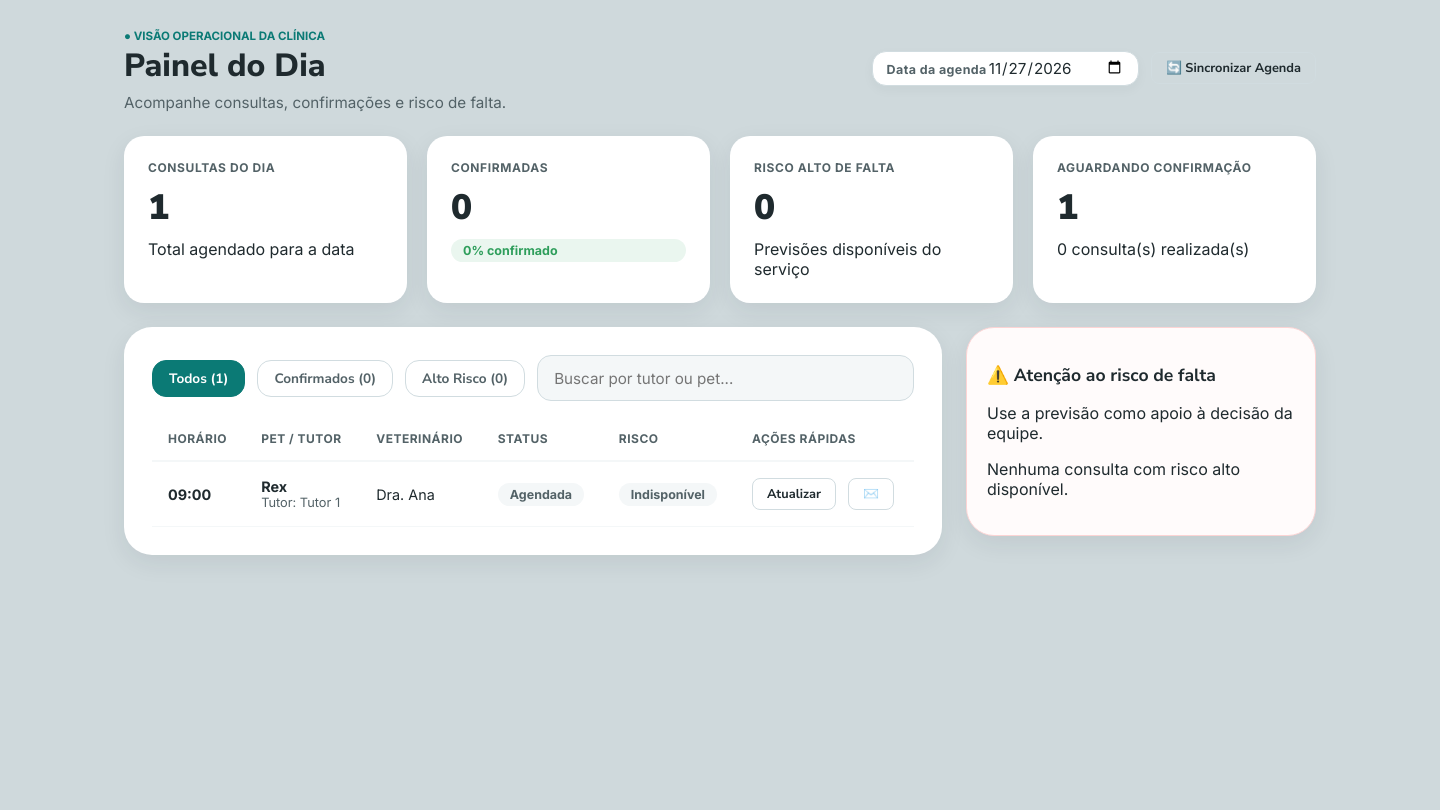
mudanca de status rejeitada permanece no modal sem alterar consulta localmente
Step 1. Click the button "Atualizar" → (794, 494), box [752,478,836,510]
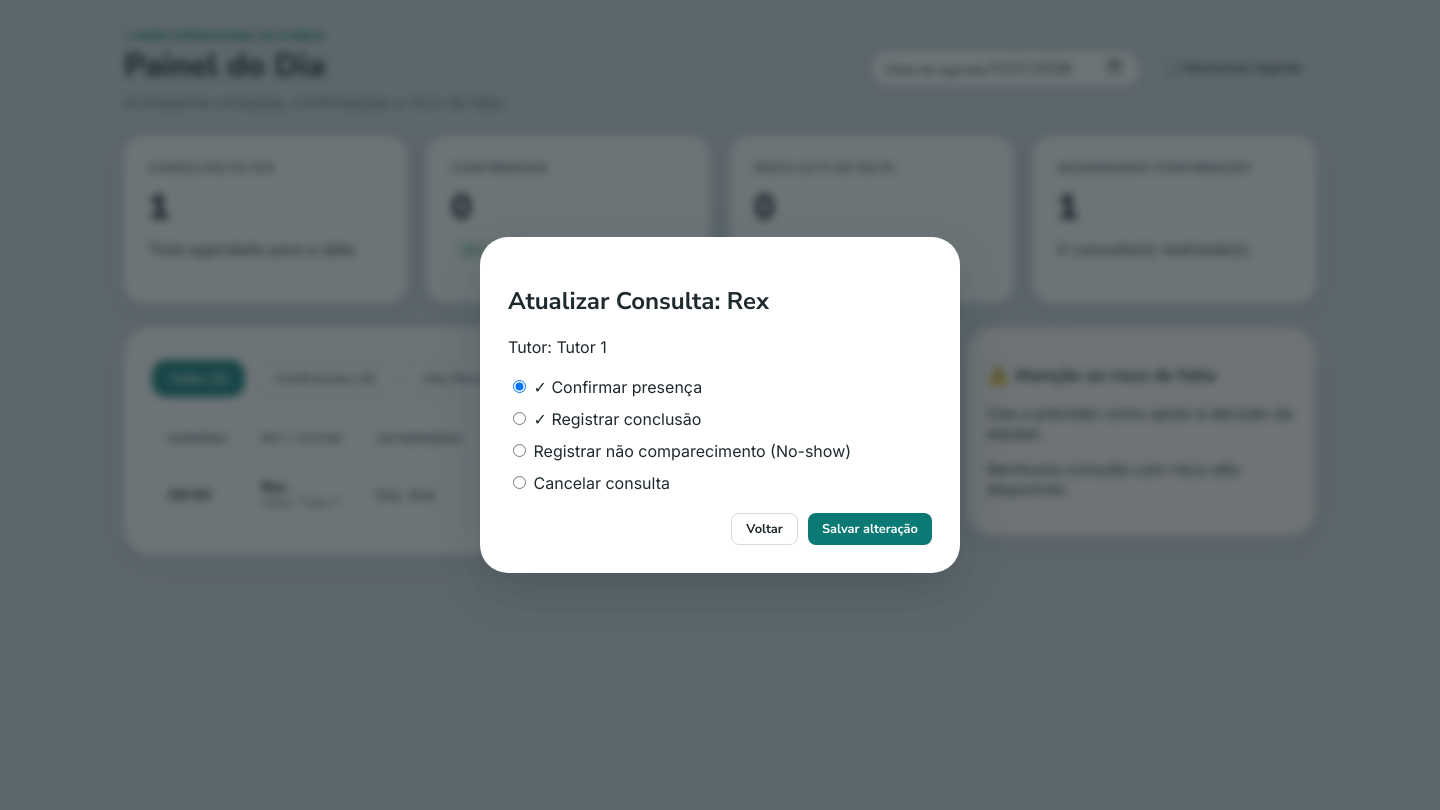
Step 2. Click the radio button labelled "Cancelar consulta" → (520, 482), box [513,476,526,489]
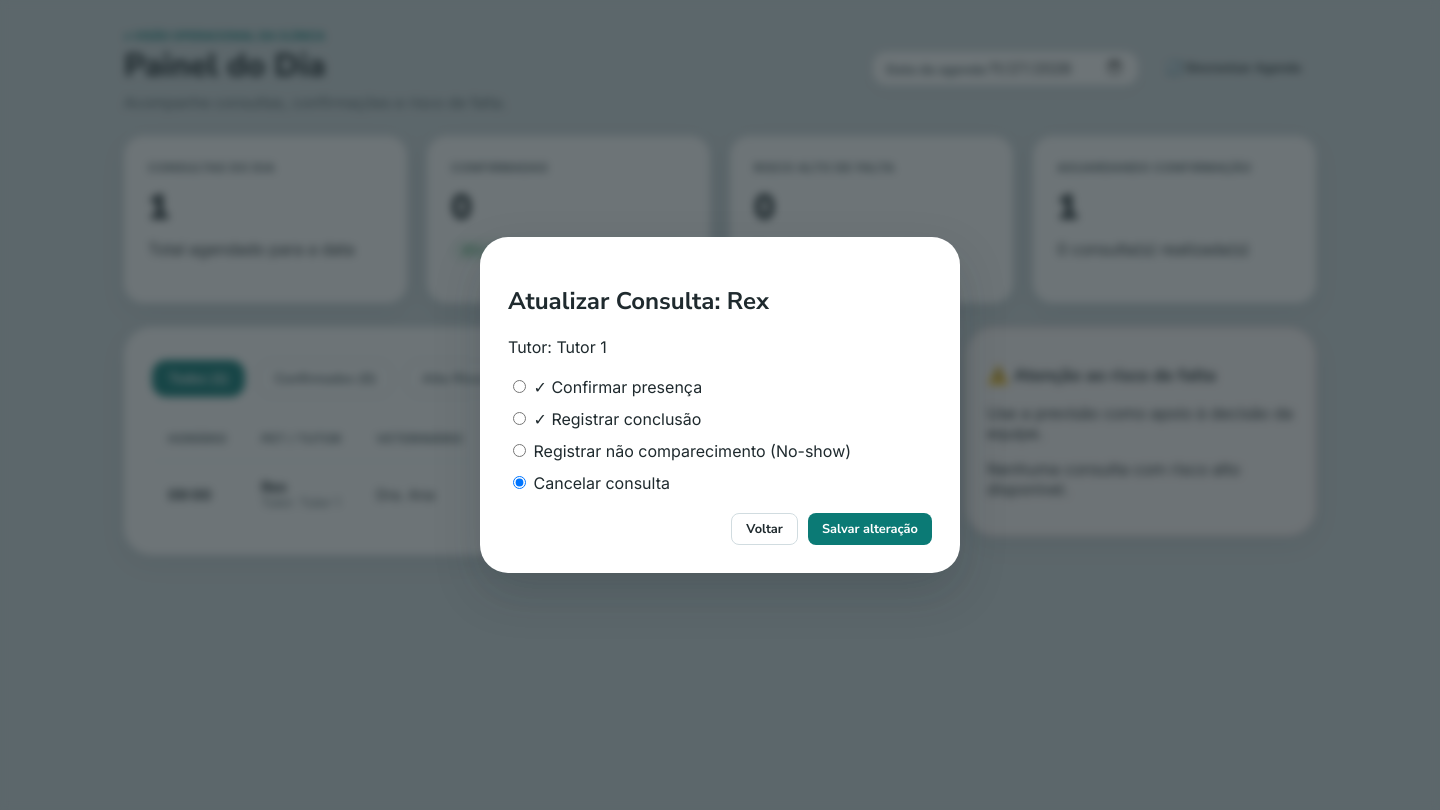
Step 3. Click the button "Salvar alteração" → (870, 529), box [808,513,932,545]
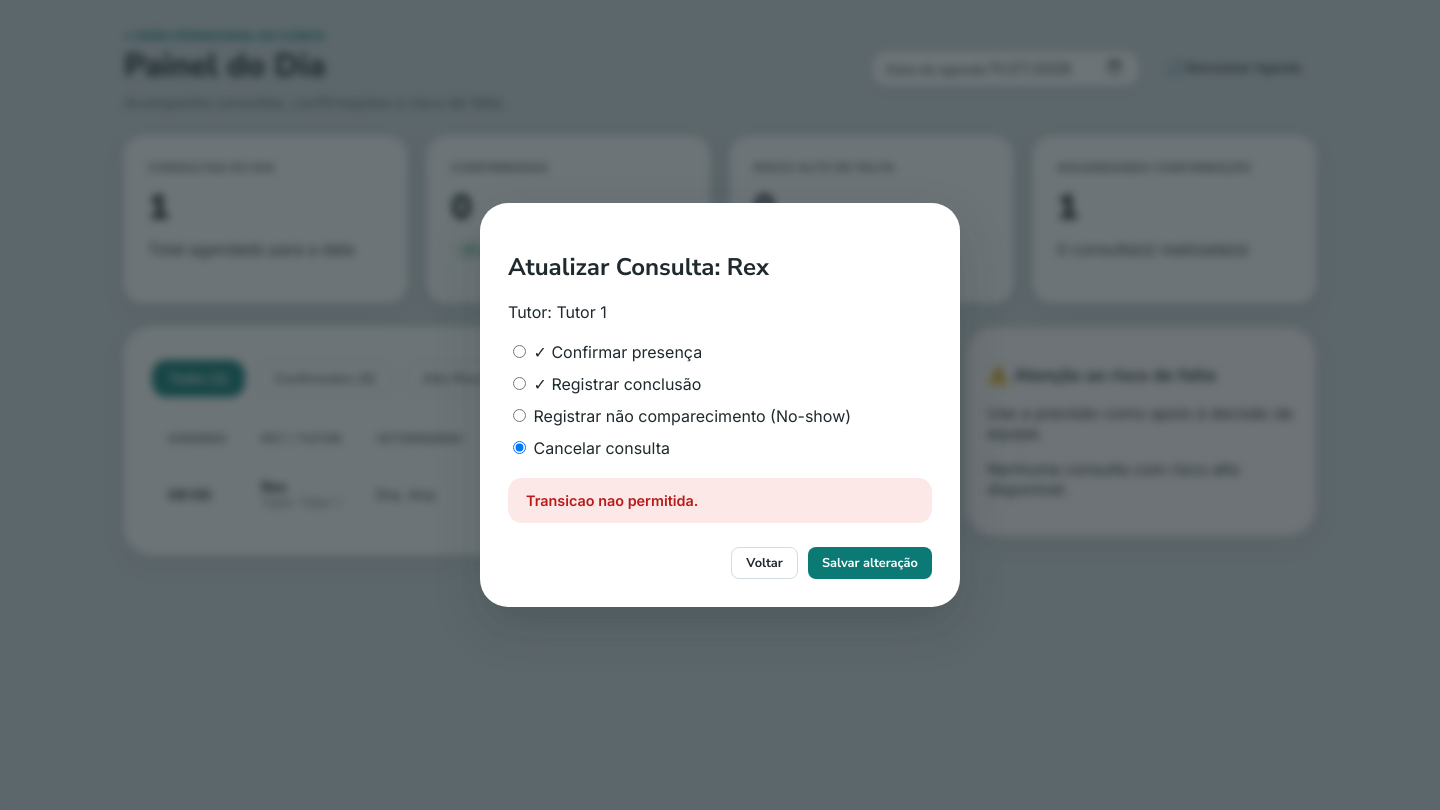
Expected: the row shows "Agendada", [510,486,572,502]
Expected: the dialog is shown, [480,203,960,607]
Expected: the message "Transicao nao permitida." is shown, [508,478,932,523]
